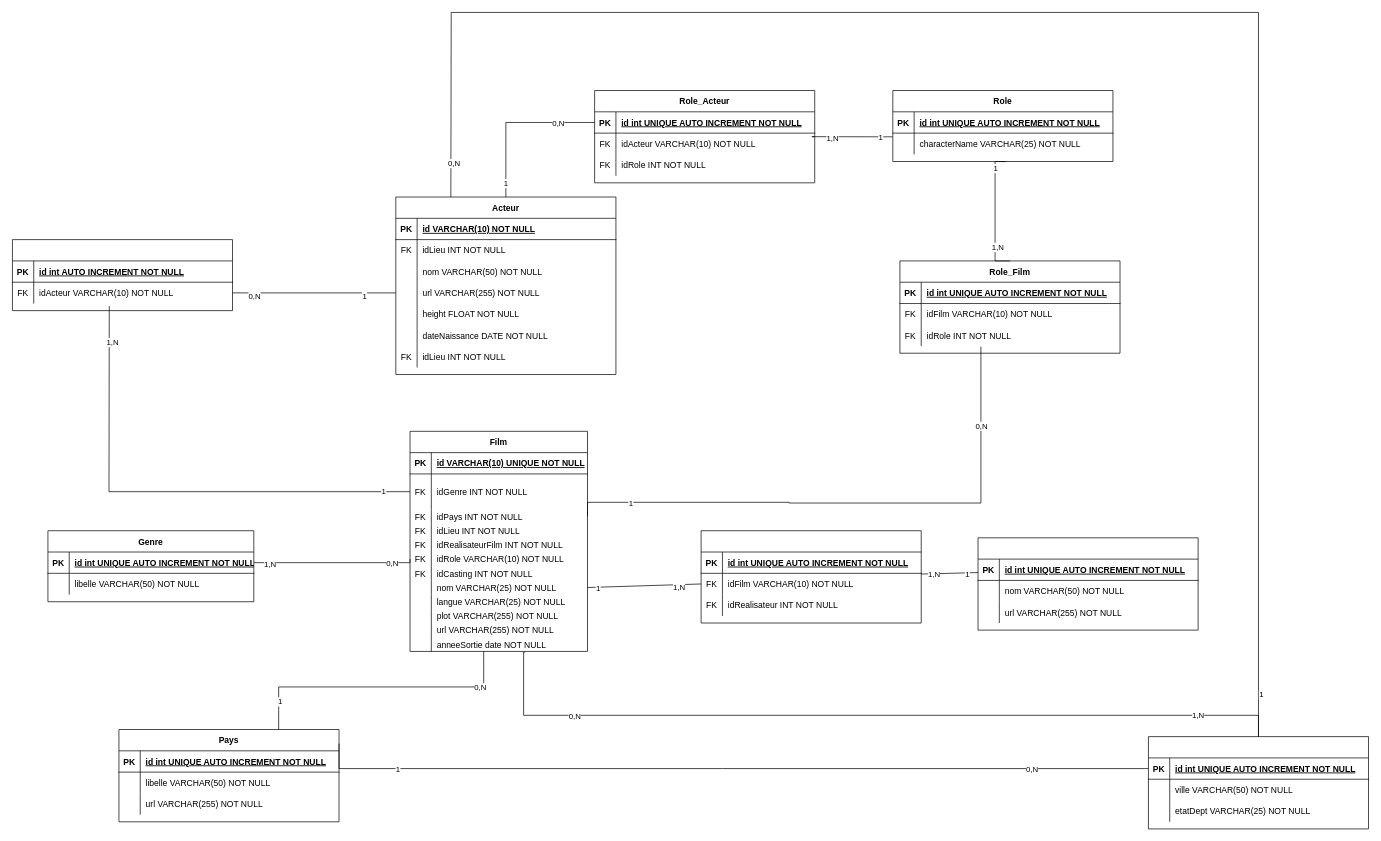
This 1381x841 diagram has some shape labels left out. The box of each missing label's shape, as (x1, y1, x2, y2) in pixels:
CastingPrincipal: (12, 239, 233, 311)
Lieu: (1148, 736, 1369, 829)
Realisateur: (977, 537, 1198, 630)
Realisateur_Film: (700, 530, 921, 623)
